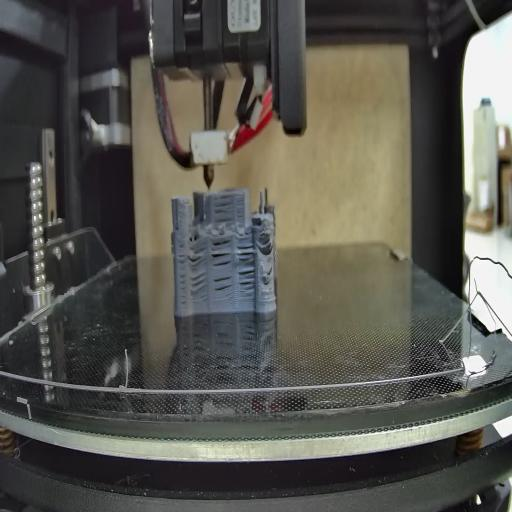cracks: (211, 239, 232, 270), (177, 242, 187, 306), (214, 194, 234, 226), (238, 270, 257, 300), (214, 276, 234, 304), (189, 272, 208, 295), (236, 243, 254, 264), (188, 248, 206, 268), (260, 239, 274, 256), (175, 219, 180, 232), (266, 266, 271, 278)
